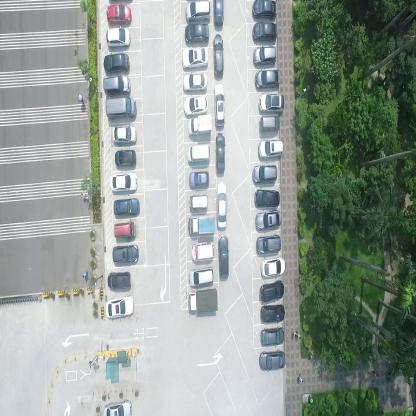car: (188, 288, 218, 316), (187, 213, 216, 241), (105, 96, 136, 121), (105, 293, 134, 319), (260, 278, 285, 304), (256, 232, 282, 257), (181, 46, 208, 70), (254, 208, 282, 231), (109, 170, 138, 192), (188, 264, 214, 288), (258, 136, 284, 160), (259, 349, 286, 372), (260, 323, 286, 346), (106, 3, 132, 26), (104, 51, 130, 74), (103, 74, 130, 96), (113, 195, 141, 216), (111, 243, 139, 264), (188, 112, 212, 136), (258, 92, 284, 114), (254, 188, 280, 210), (184, 1, 211, 22), (191, 240, 214, 264), (261, 302, 285, 325), (103, 396, 132, 415), (216, 179, 227, 229), (261, 255, 286, 277), (183, 94, 208, 116), (212, 33, 224, 78), (218, 234, 230, 279), (213, 83, 225, 127), (253, 44, 277, 66), (106, 27, 131, 48), (112, 123, 137, 144), (182, 72, 207, 93), (252, 21, 278, 41), (251, 0, 277, 20), (186, 143, 210, 164), (184, 24, 209, 44), (252, 164, 277, 184), (255, 68, 280, 88), (107, 269, 132, 289), (113, 219, 136, 240), (114, 147, 137, 168), (188, 192, 208, 214), (259, 113, 279, 134), (215, 132, 225, 174), (189, 170, 210, 189), (212, 0, 224, 27)
